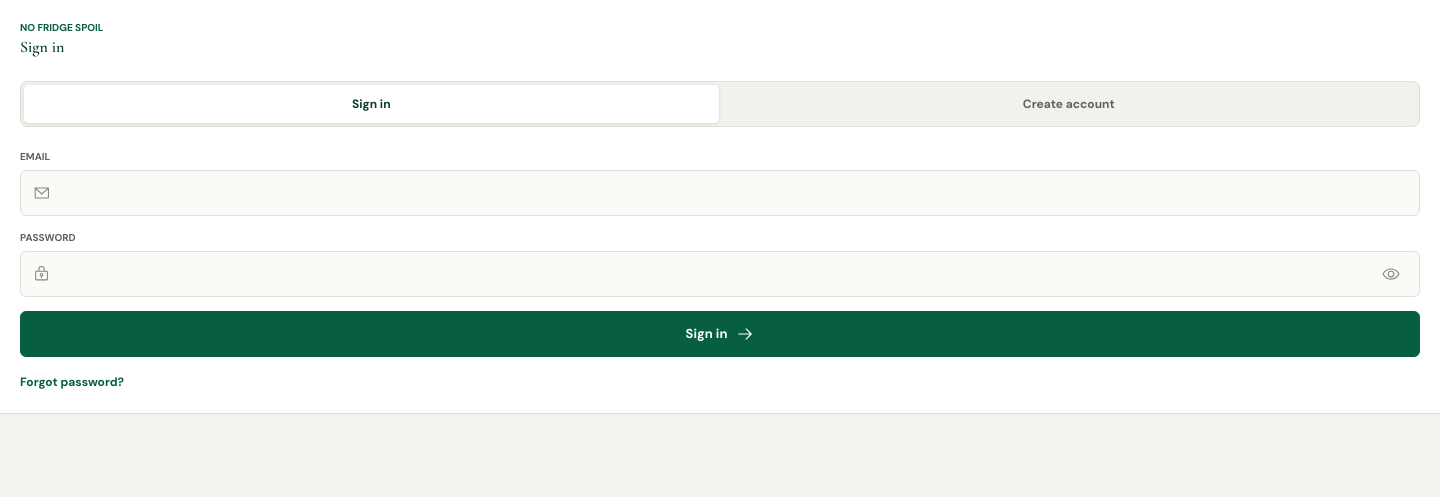
AccountAccess › shows password requirements and supports visibility toggling
The width and height of the screenshot is (1440, 497).
Click the tab "Create account".
click(1069, 104)  # box [722,85,1416,123]
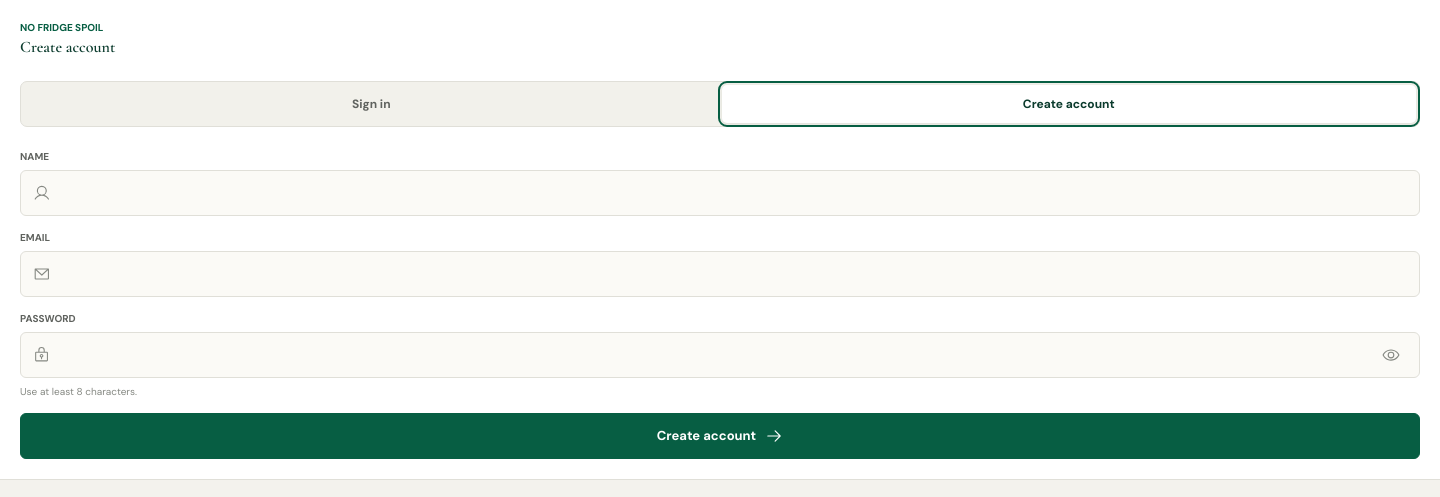
Result: the text "Use at least 8 characters." is shown at [20,385,137,398]
Click the button named "Show password".
click(1391, 355)  # box [1375,339,1407,371]
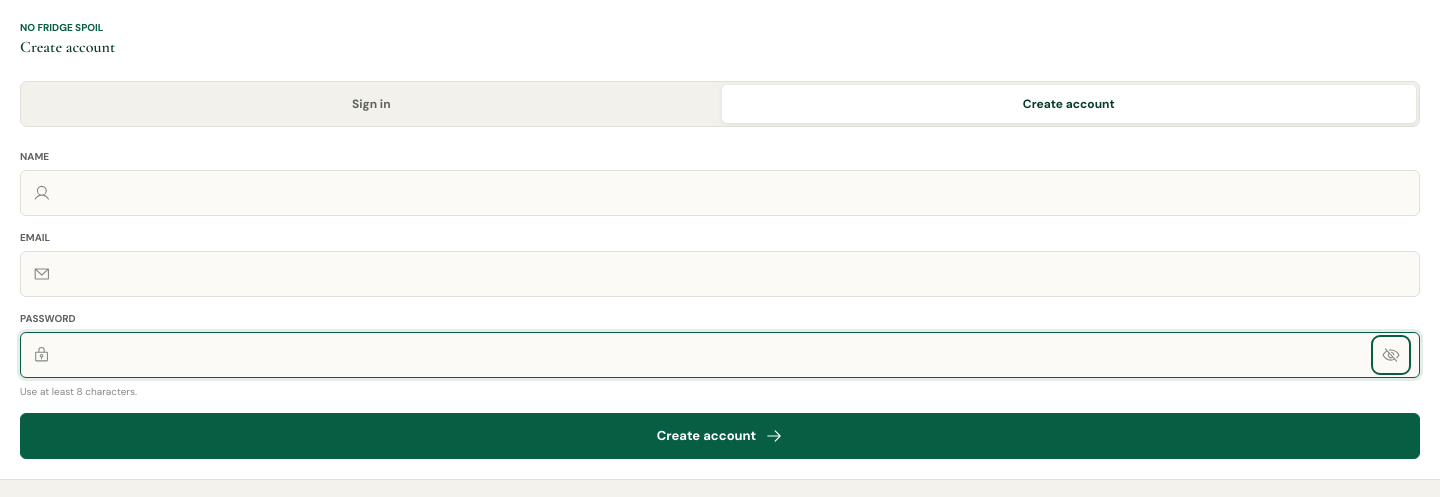
Result: the button named "Hide password" is shown at [1375,339,1407,371]
